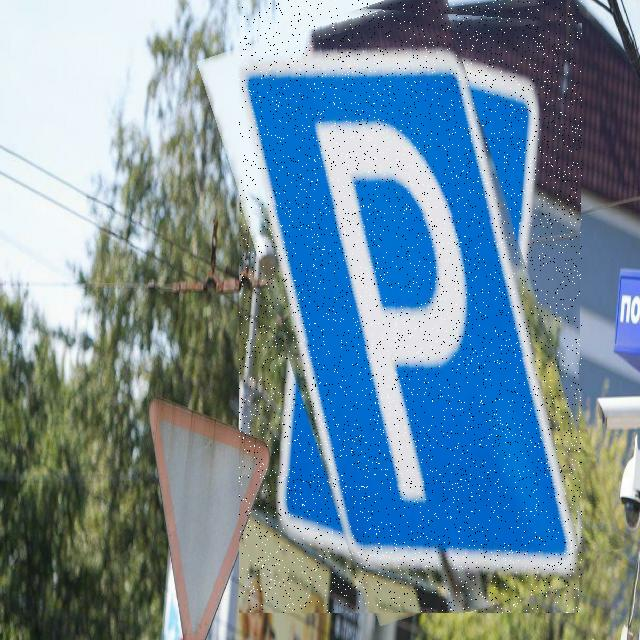parking: (239, 0, 582, 613)
